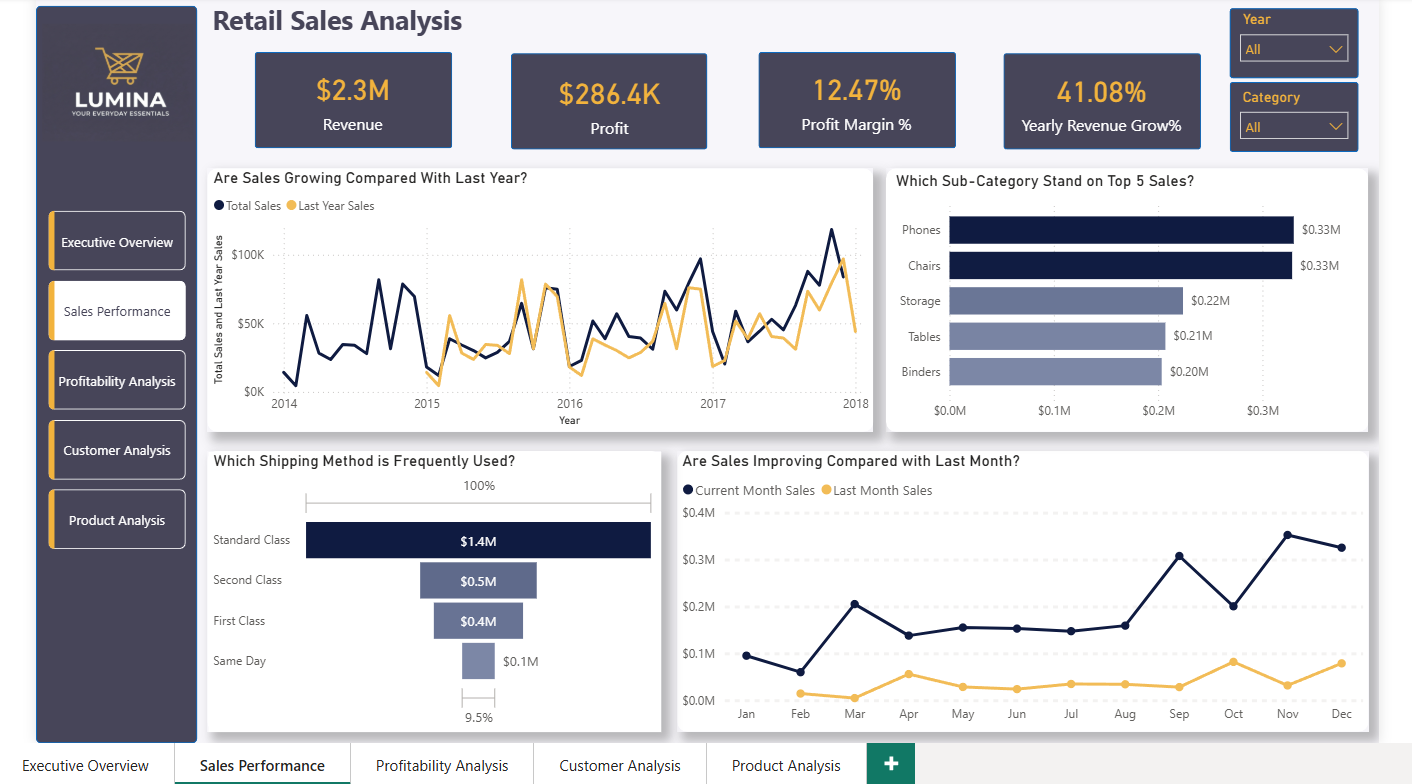

The dashboard page shown, as its layout file describes it:
{"tool":"powerbi","page":{"name":"Sales Performance","canvas":[1350,750],"ordinal":1},"visuals":[{"type":"shape","box":[644.7,456.2,695,282.8],"z":0},{"type":"shape","box":[172.2,172.2,669.8,265.2],"z":1000},{"type":"shape","box":[0,8.8,162.1,741.5],"z":2000},{"type":"pageNavigator","box":[12.4,214.5,138.9,341],"z":3000},{"type":"shape","box":[219.9,55.3,198.6,96.8],"z":5000},{"type":"shape","box":[477.5,56.6,197.3,96.8],"z":6000},{"type":"shape","box":[726.4,55.3,198.6,96.8],"z":7000},{"type":"shape","box":[972.7,56.6,198.6,96.8],"z":8000},{"type":"shape","box":[1200.2,11.3,129.4,70.4],"z":9000},{"type":"textbox","box":[172.4,0,317.4,47.1],"z":10000},{"type":"card","fields":{"Values":["fact_table.total_sale"]},"box":[219.9,55.3,197.3,95.5],"z":11000},{"type":"card","fields":{"Values":["fact_table.total_profit"]},"box":[478.8,59.1,196,95.5],"z":12000},{"type":"card","fields":{"Values":["fact_table.profit_margin"]},"box":[726.4,55.3,197.3,95.5],"z":13000},{"type":"card","fields":{"Values":["dim_customer.yearly_sales_grow %"]},"box":[972.7,56.6,197.3,95.5],"z":14000},{"type":"shape","box":[854.6,172.2,485.1,265.2],"z":15000},{"type":"shape","box":[172.2,456.2,456.2,282.8],"z":16000},{"type":"barChart","title":"Which Sub-Category Stand on Top 5 Sales?","fields":{"Y":["fact_table.total_sale"],"Category":["fact_table.sub_category"]},"box":[859.6,175.9,475,258.9],"z":17000},{"type":"slicer","fields":{"Values":["dim_date.Date.Variation.Date Hierarchy.Year"]},"box":[1200.2,8.8,129.4,69.1],"z":18000},{"type":"shape","box":[1200.2,85.5,129.4,70.4],"z":19000},{"type":"slicer","fields":{"Values":["dim_product.category"]},"box":[1200.2,86.7,129.4,69.1],"z":20000},{"type":"funnel","title":"Which Shipping Method is Frequently Used?","fields":{"Y":["fact_table.total_sale"],"Category":["dim_shipping.ship_mode"]},"box":[173.4,457.4,454.9,281.5],"z":21000},{"type":"lineChart","title":"Are Sales Improving Compared with Last Month?","fields":{"Category":["dim_date.month"],"Y":["fact_table.total_sale","fact_table.last_month_sale"]},"box":[644.7,457.4,695,281.5],"z":22000},{"type":"lineChart","title":"Are Sales Growing Compared With Last Year?","fields":{"Y":["fact_table.total_sale","dim_customer.last_year_sale"],"Category":["dim_date.Date.Variation.Date Hierarchy.Year","dim_date.Date.Variation.Date Hierarchy.Quarter","dim_date.Date.Variation.Date Hierarchy.Month"]},"box":[173.7,172.2,668.6,264.8],"z":23000},{"type":"image","box":[6.3,18.9,152.1,134.5],"z":23001}]}

Visuals, with their boxes on the page's 1350x750 design canvas (x1, y1, x2, y2). These are canvas units, not pixel positions in the 1412x784 screenshot, which may show the page scaled, cropped or inside an application window:
shape: <region>645, 456, 1340, 739</region>
shape: <region>172, 172, 842, 437</region>
shape: <region>0, 9, 162, 750</region>
pageNavigator: <region>12, 214, 151, 556</region>
shape: <region>220, 55, 418, 152</region>
shape: <region>478, 57, 675, 153</region>
shape: <region>726, 55, 925, 152</region>
shape: <region>973, 57, 1171, 153</region>
shape: <region>1200, 11, 1330, 82</region>
textbox: <region>172, 0, 490, 47</region>
card - fact_table.total_sale: <region>220, 55, 417, 151</region>
card - fact_table.total_profit: <region>479, 59, 675, 155</region>
card - fact_table.profit_margin: <region>726, 55, 924, 151</region>
card - dim_customer.yearly_sales_grow %: <region>973, 57, 1170, 152</region>
shape: <region>855, 172, 1340, 437</region>
shape: <region>172, 456, 628, 739</region>
"Which Sub-Category Stand on Top 5 Sales?" barChart: <region>860, 176, 1335, 435</region>
slicer - dim_date.Date.Variation.Date Hierarchy.Year: <region>1200, 9, 1330, 78</region>
shape: <region>1200, 86, 1330, 156</region>
slicer - dim_product.category: <region>1200, 87, 1330, 156</region>
"Which Shipping Method is Frequently Used?" funnel: <region>173, 457, 628, 739</region>
"Are Sales Improving Compared with Last Month?" lineChart: <region>645, 457, 1340, 739</region>
"Are Sales Growing Compared With Last Year?" lineChart: <region>174, 172, 842, 437</region>
image: <region>6, 19, 158, 153</region>
